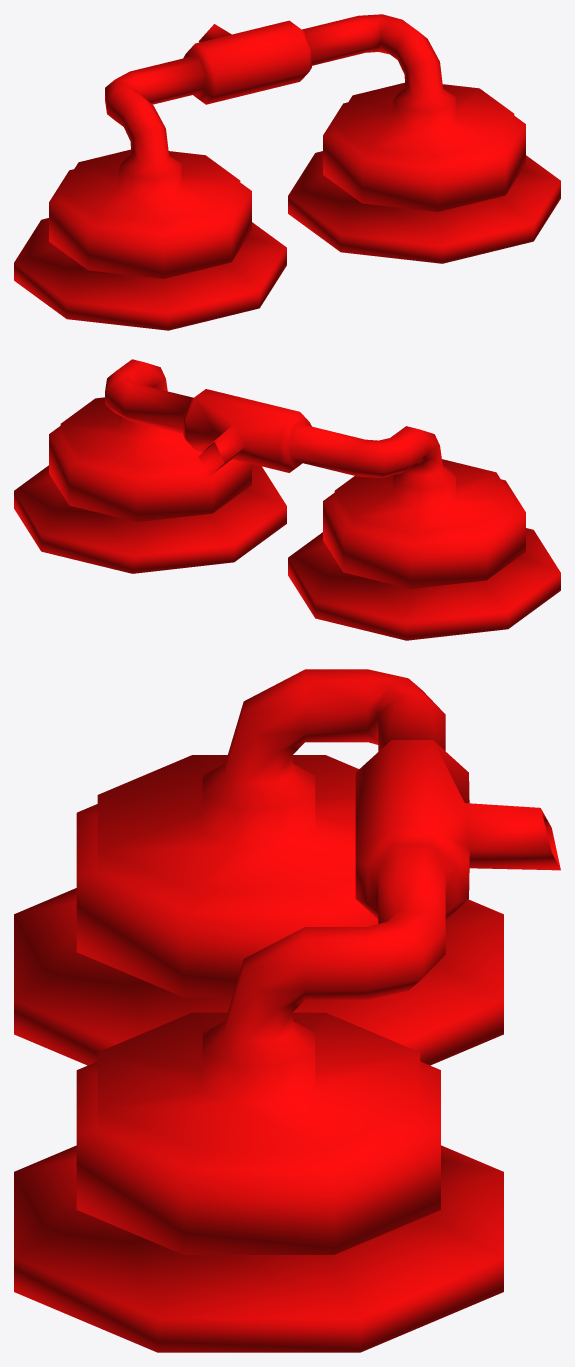
The model's file is mop.fbx.
3 renders of one model, top to bottom at view 1: azimuth 30°, elevation 25°; view 2: azimuth 150°, elevation 25°; view 3: azimuth 270°, elevation 25°, orthographic. The views are drawn at different scales.
Parts seen in each view (by area): view 1: Mop_LP; view 2: Mop_LP; view 3: Mop_LP.
Boxes of the visible parts, x1,y1,x2,y2 form: Mop_LP: (14, 14, 560, 330); Mop_LP: (14, 359, 560, 640); Mop_LP: (14, 669, 560, 1352).
Bounding box in the file's own units: 2.42 × 0.8153 × 1.2.
